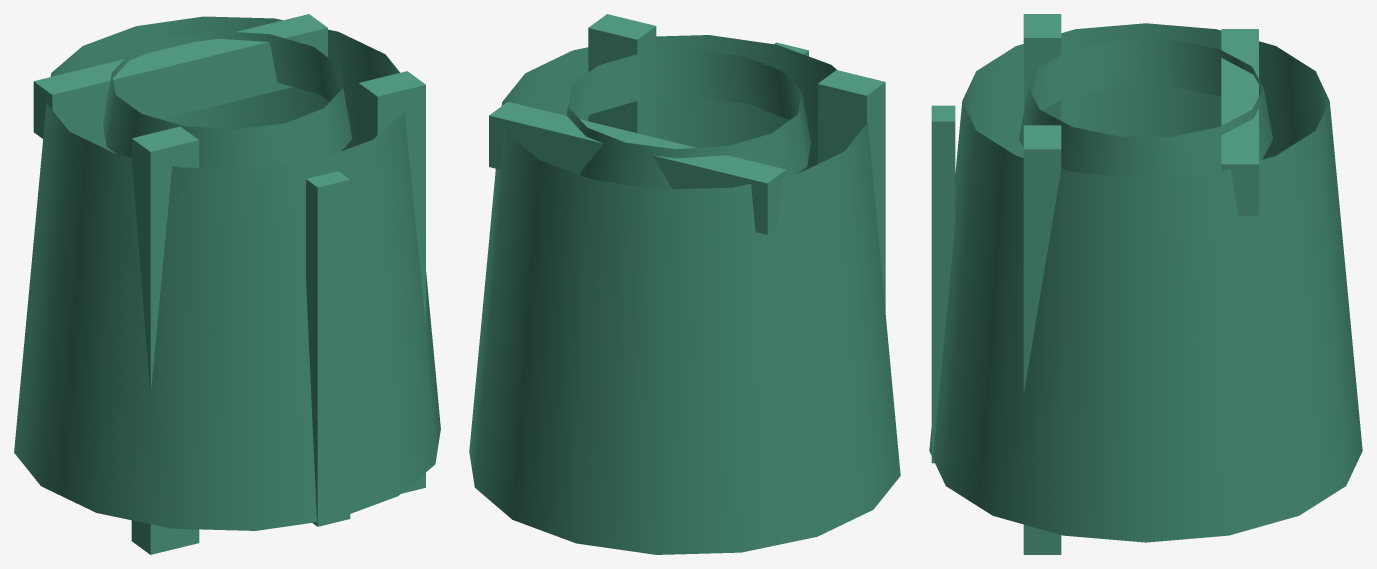
File: sherwani-emerald.glb
3 renders of one model, left to right at view 1: azimuth 30°, elevation 25°; view 2: azimuth 150°, elevation 25°; view 3: azimuth 270°, elevation 25°, orthographic.
Visible parts, largest first — view 1: SherwaniOutfitMesh; view 2: SherwaniOutfitMesh; view 3: SherwaniOutfitMesh.
Boxes of the visible parts, x1,y1,x2,y2 form: SherwaniOutfitMesh: [14, 14, 440, 554]; SherwaniOutfitMesh: [469, 14, 900, 554]; SherwaniOutfitMesh: [929, 14, 1362, 554].
Size of the model in its own units: 0.92 by 0.95 by 0.92.
